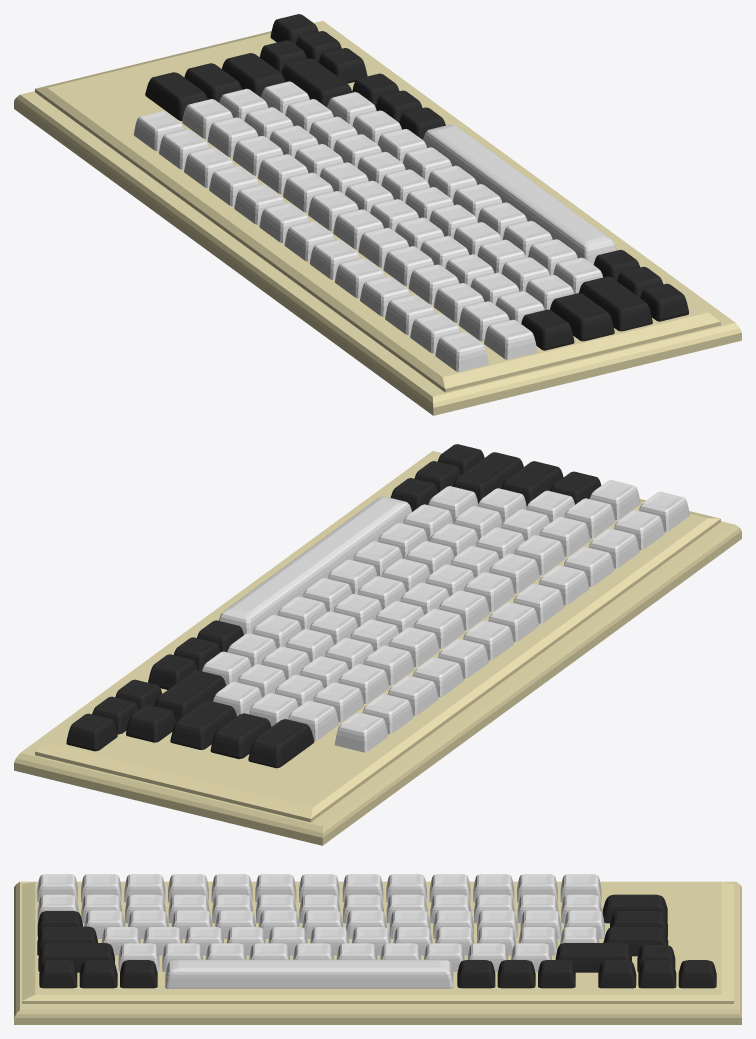
File: keyboard.fbx
3 views of the same model, one above another, from view 1: azimuth 30°, elevation 25°; view 2: azimuth 150°, elevation 25°; view 3: azimuth 270°, elevation 25° (orthographic). The views are drawn at different scales.
Visible parts, largest first — view 1: keybooard; view 2: keybooard; view 3: keybooard.
Boxes of the visible parts, box(x1,y1,x2,y2) form: keybooard: box(14, 14, 741, 415); keybooard: box(14, 444, 741, 845); keybooard: box(14, 874, 741, 1024).
Bounding box in the file's own units: 20.91 × 2.9 × 49.21.
